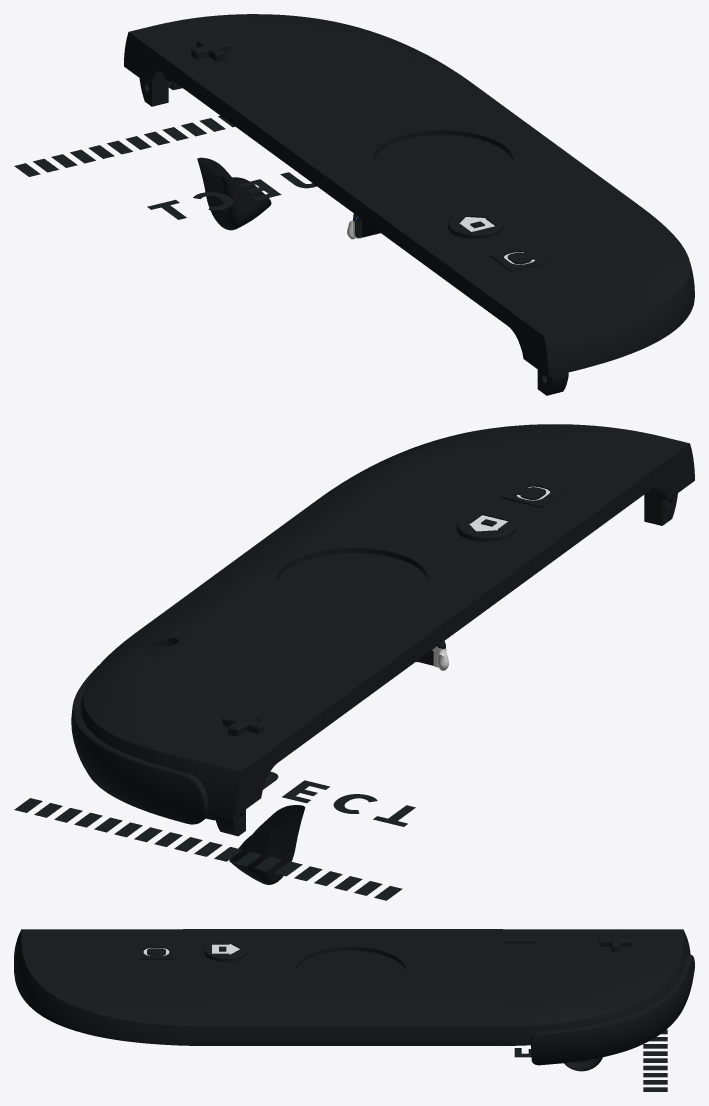
File: switch-controller-pbr.glb
3 renders of one model, top to bottom at view 1: azimuth 30°, elevation 25°; view 2: azimuth 150°, elevation 25°; view 3: azimuth 270°, elevation 25°, orthographic. The views are drawn at different scales.
Parts seen in each view (by area): view 1: _R_100_2, 1; view 2: _R_100_2, 1; view 3: _R_100_2, 1.
Part boxes in pixels (x1,y1,x2,y2): _R_100_2: [124, 14, 694, 395]; 1: [14, 115, 534, 264]; _R_100_2: [71, 424, 694, 884]; 1: [14, 486, 550, 900]; _R_100_2: [14, 929, 694, 1071]; 1: [143, 944, 667, 1091].
Bounding box in the file's own units: 5.49 × 2.47 × 11.62.
Materials: 4 (3 with a texture image).
